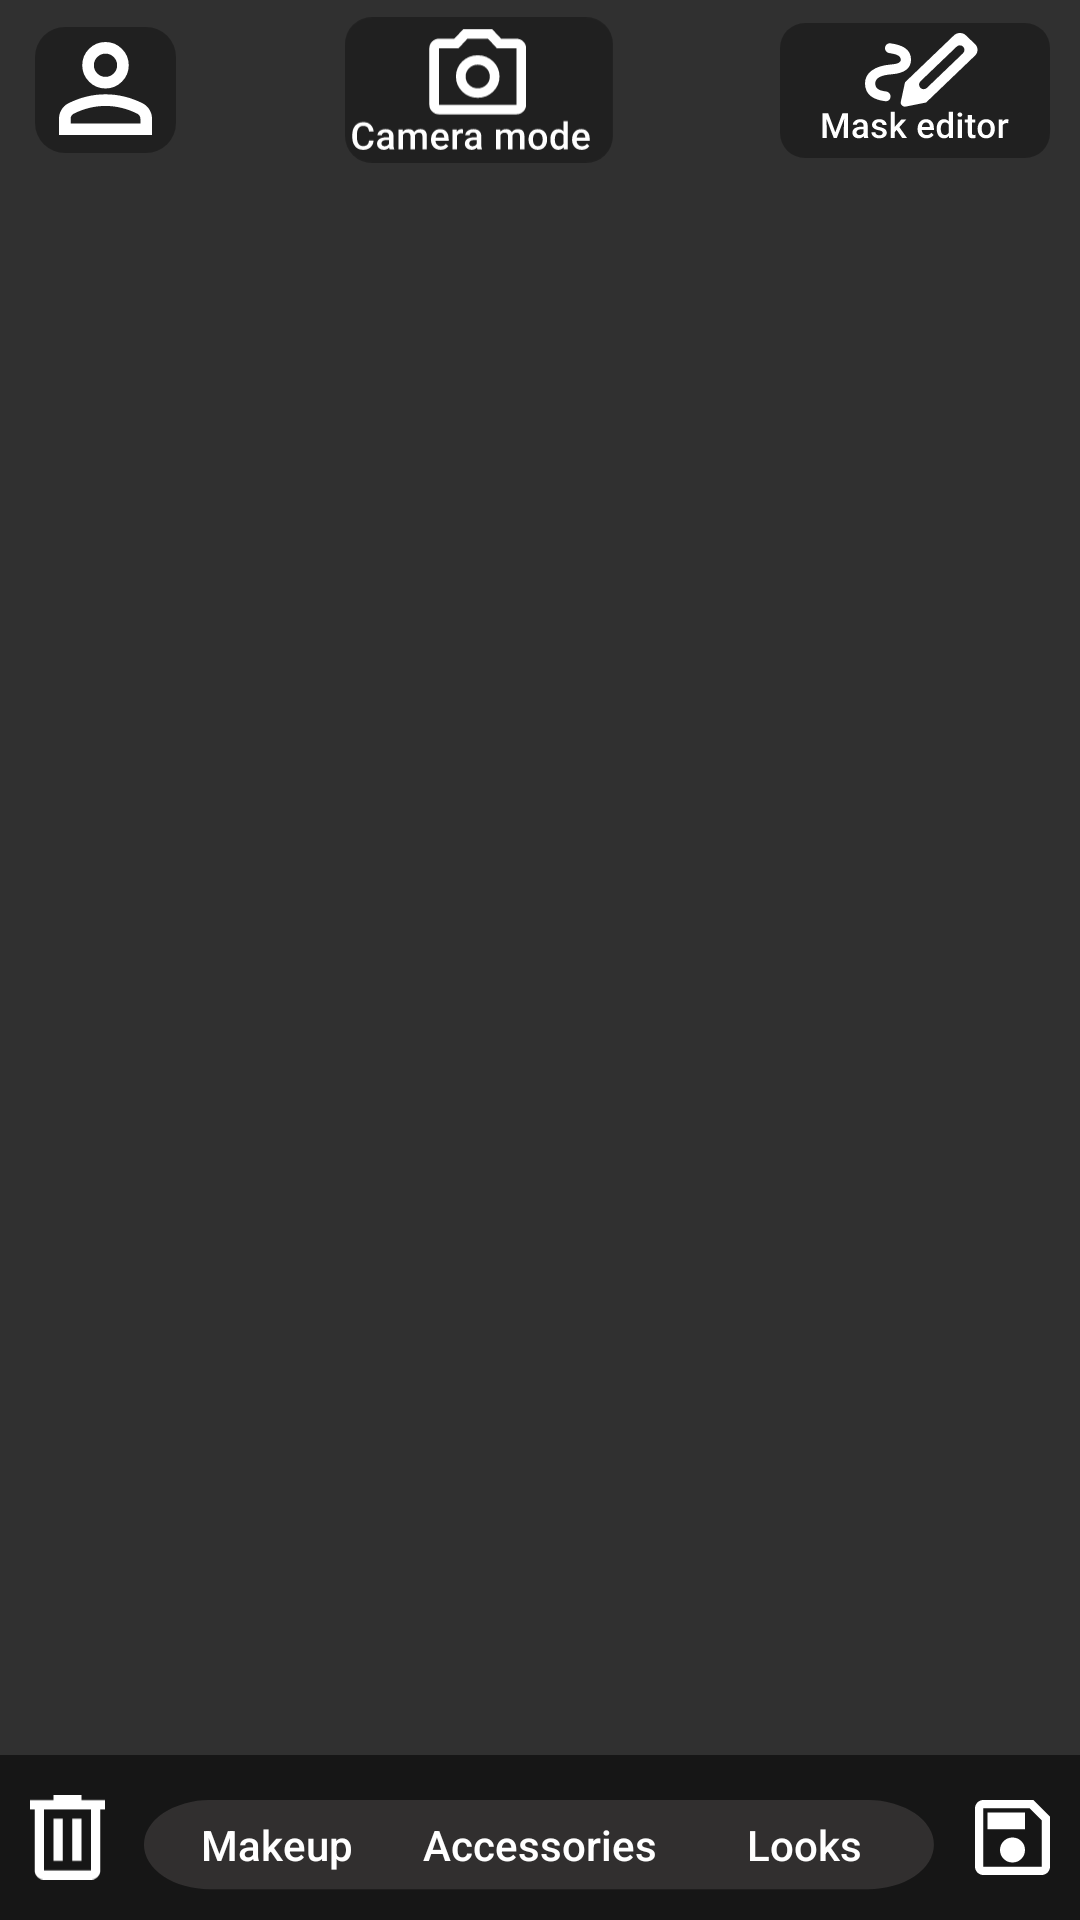

Where to tap for icons on this 1080px x 1920px app screen, as point (x, y):
delete: point (67, 1837)
profile: point (105, 90)
save: point (1012, 1837)
